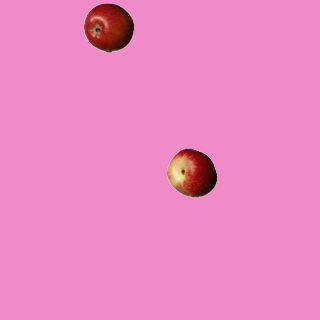Apple Braeburn: (83, 2, 133, 52)
Nectarine: (166, 147, 216, 197)
